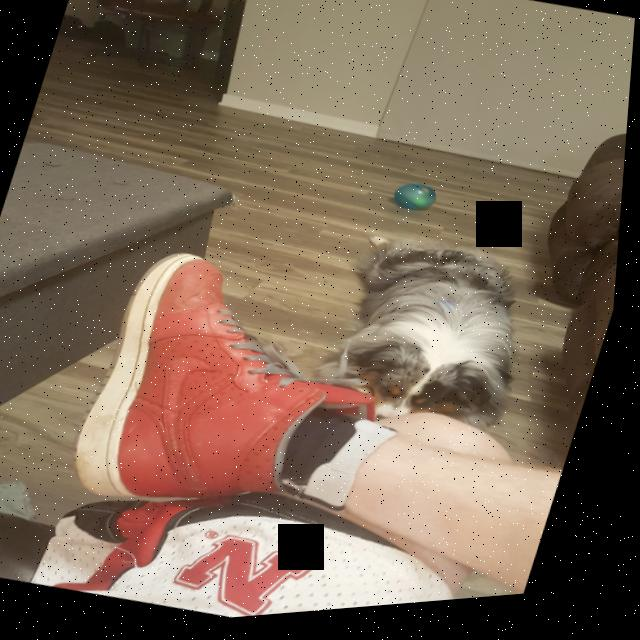shoes: (59, 225, 425, 561)
